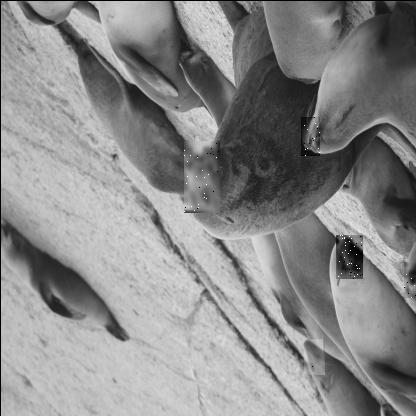face: (182, 139, 219, 212), (334, 233, 362, 278), (302, 337, 324, 374), (299, 115, 319, 155), (402, 260, 415, 298)
